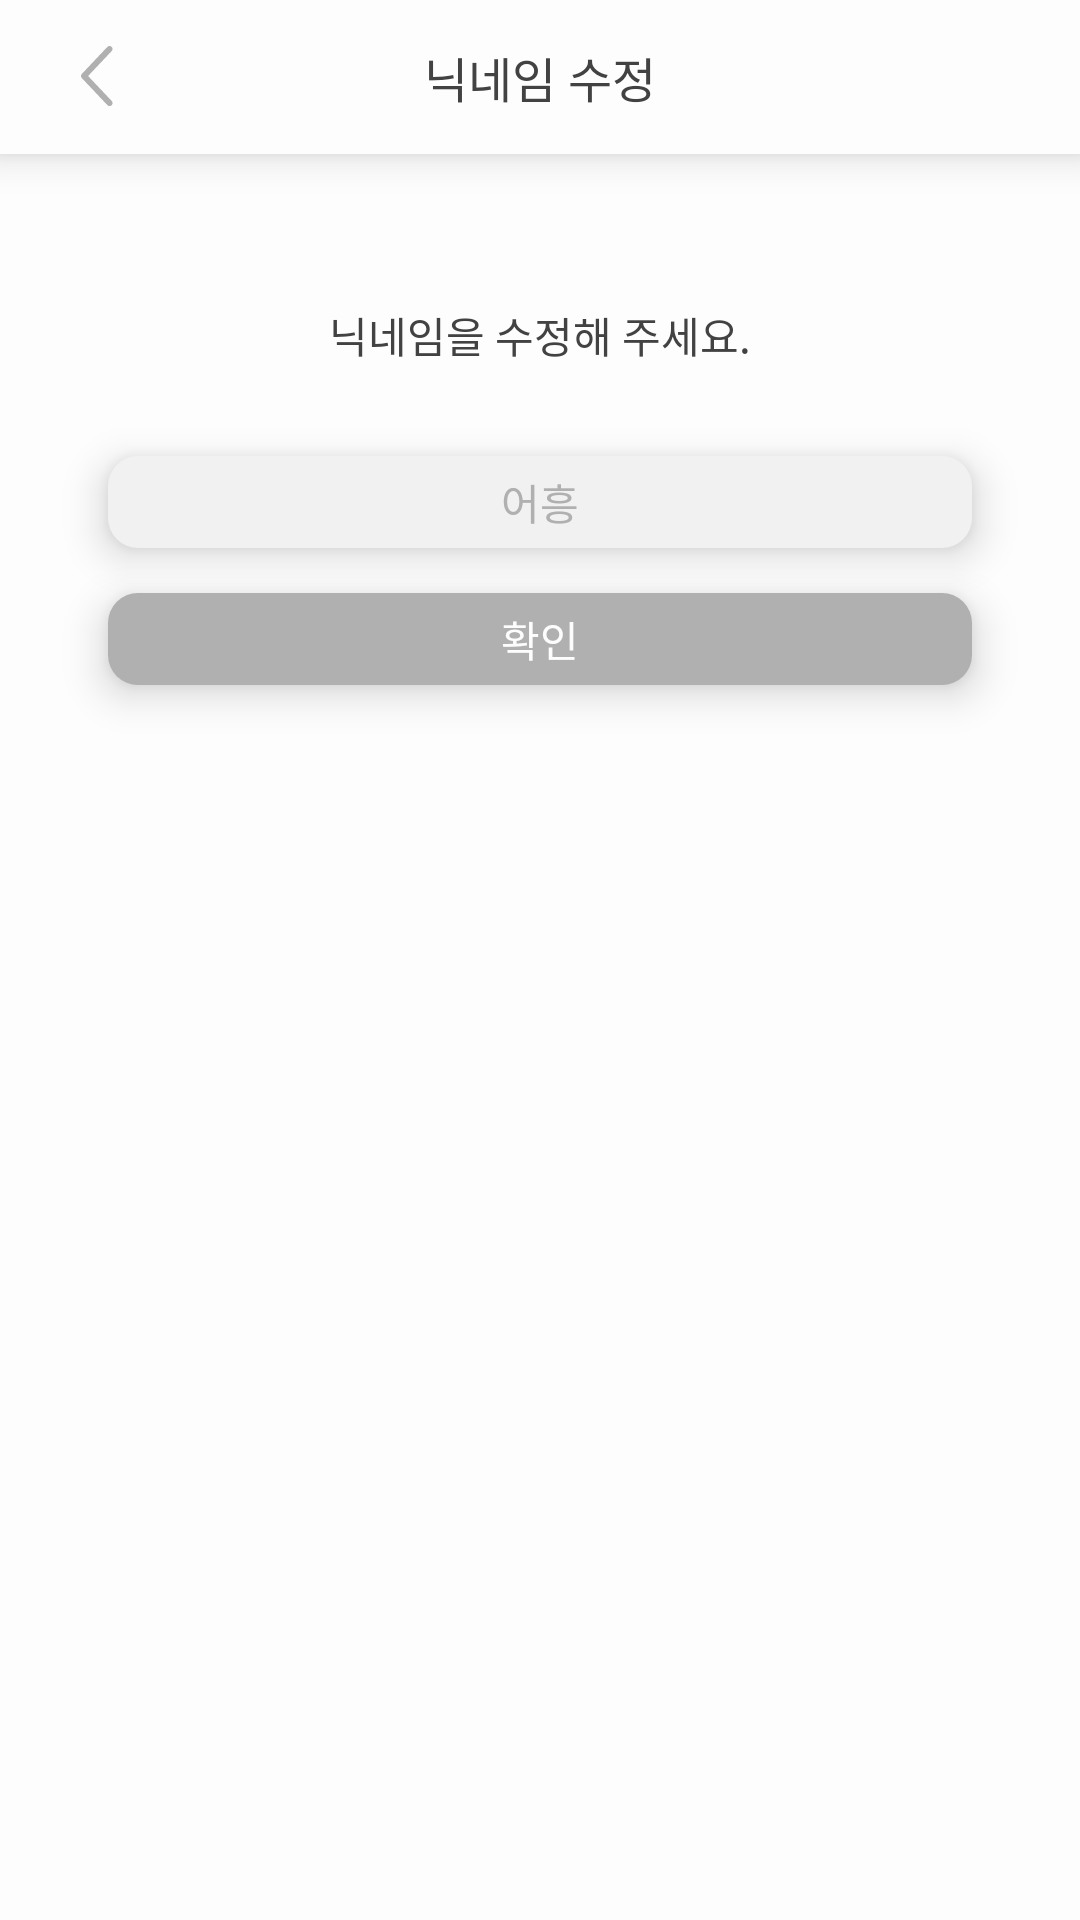

Icon bounding boxes for this 1080px x 1920px phone screenshot, format [x1=x1, y1=y1, x2=x2, y2=y2]:
back arrow: [x1=81, y1=46, x2=113, y2=106]
